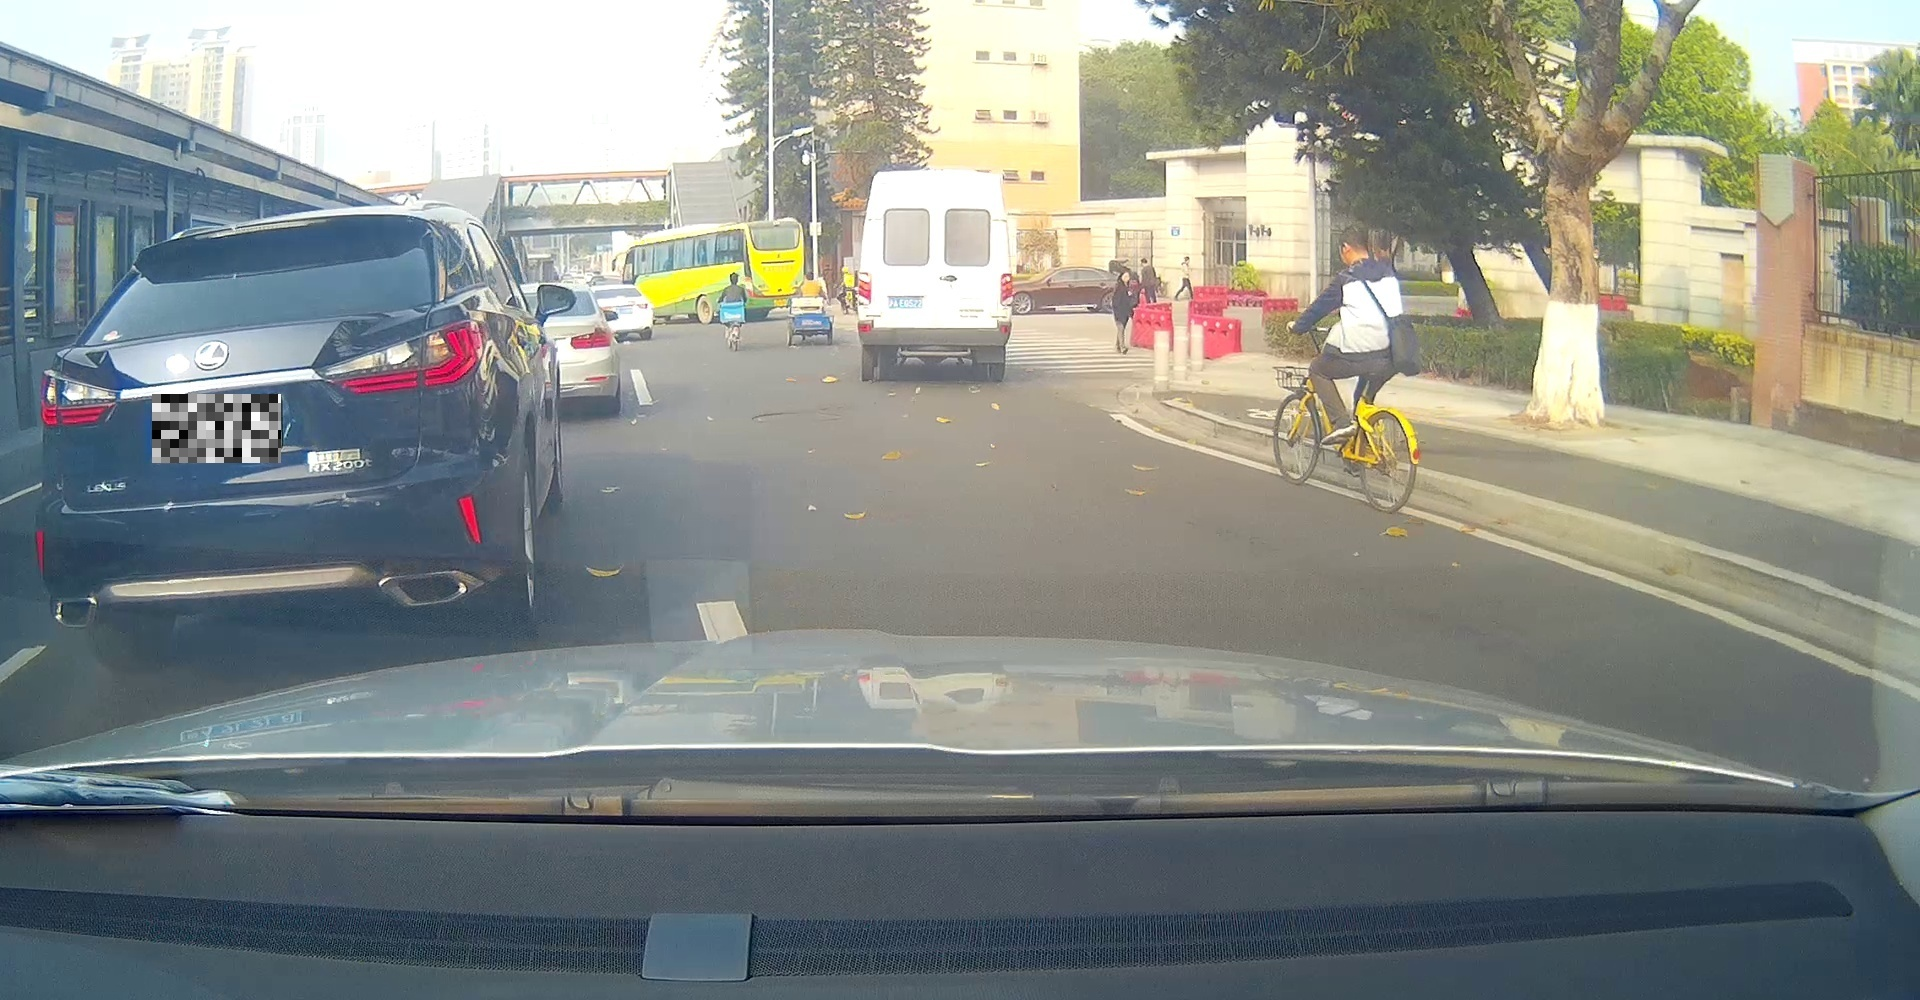L_light: (41, 369, 121, 429), (858, 272, 872, 306)
R_light: (317, 320, 483, 393), (1001, 273, 1012, 306)
T_light: (213, 225, 303, 236), (927, 173, 952, 176)
day-no: (36, 199, 513, 673), (857, 169, 1013, 382)
plate_1: (152, 393, 281, 463)
